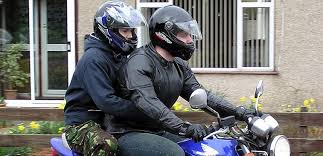helmet: (146, 2, 202, 62), (89, 1, 146, 54)
